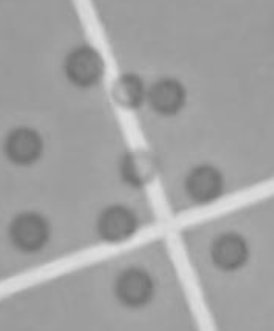cell: (204, 226, 254, 276), (61, 42, 110, 93), (115, 142, 163, 193), (109, 262, 159, 310), (5, 209, 55, 256), (93, 199, 143, 246), (183, 159, 230, 207), (144, 72, 189, 121), (105, 69, 150, 114), (1, 123, 47, 167)
